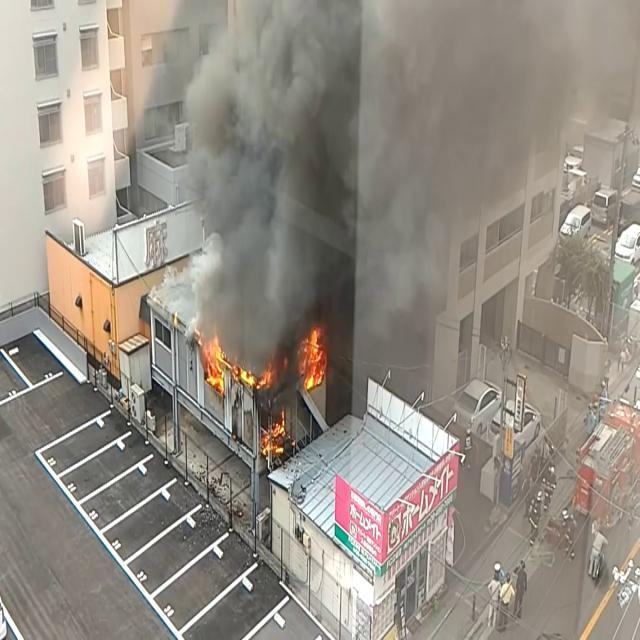Fire: (197, 334, 271, 394), (298, 318, 331, 394), (261, 406, 290, 459)
Smoke: (166, 1, 518, 380), (166, 0, 360, 356)
